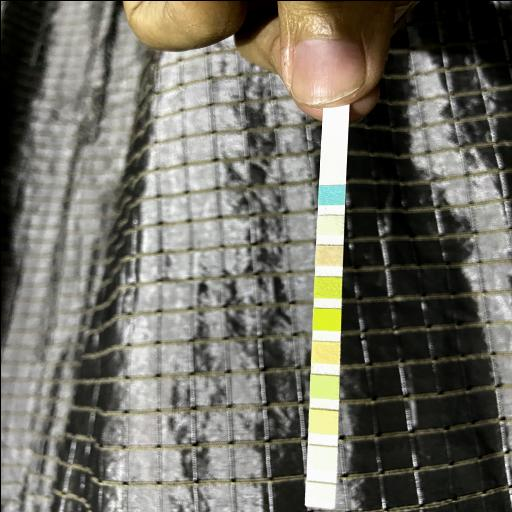Bilirubin: (318, 216, 342, 234)
Blood: (314, 309, 338, 328)
Glucose: (320, 186, 342, 203)
Ketone: (316, 246, 340, 264)
Leukocytes: (308, 484, 332, 504)
Nitrite: (309, 447, 334, 467)
Protein: (312, 376, 336, 394)
SpGravity: (315, 276, 339, 296)
Urobilinogen: (310, 410, 334, 430)
pH: (312, 342, 336, 362)
strip: (304, 112, 348, 506)
